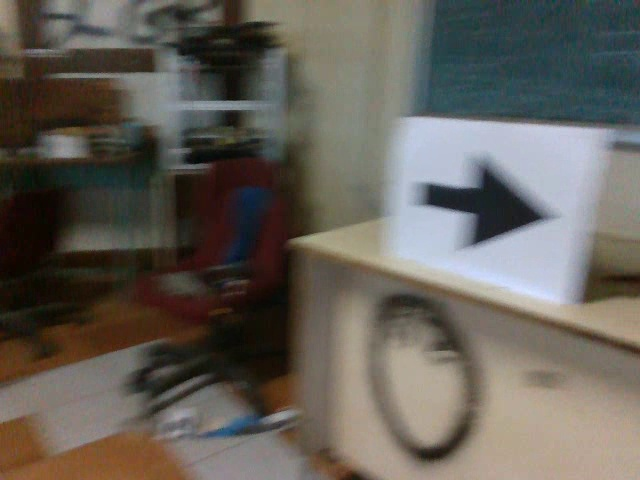Right: (407, 147, 560, 255)
